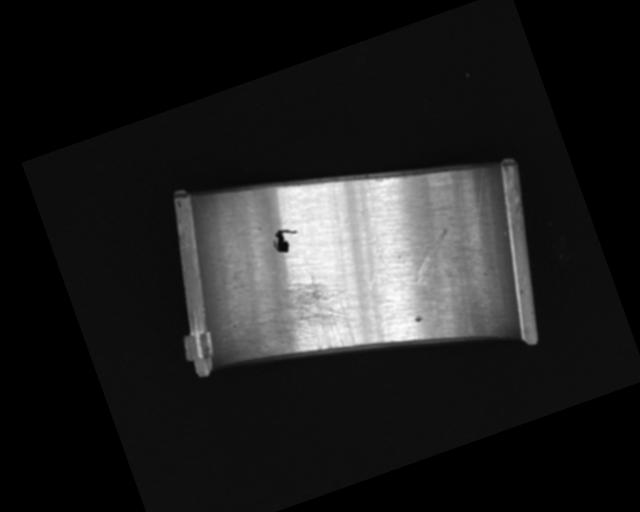blot: (269, 224, 303, 256)
bruise: (413, 312, 425, 324)
nick: (332, 176, 406, 290), (443, 164, 510, 255), (401, 227, 461, 284), (416, 276, 443, 327)
scratch: (236, 265, 367, 378)
